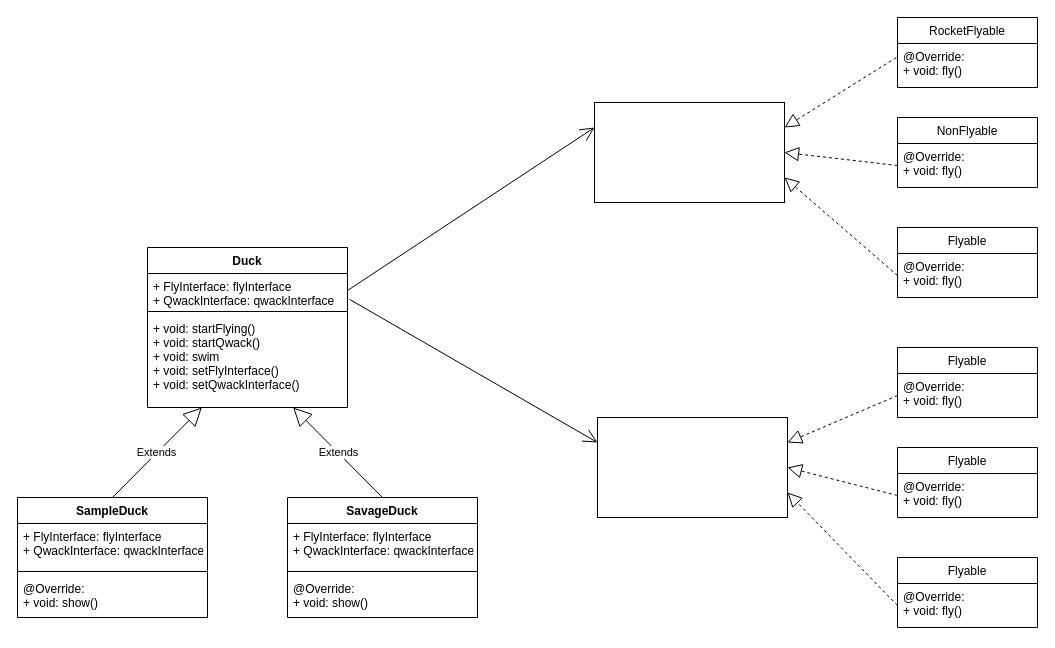
Image size: 1055x648. Some labels were removed from this diagram. The shapes that lost their labels are listed below. From the top down, each one's centre as x and y in pixels, then its label:
At point (689, 152): "<<Interface>> FlyInterface + void: fly()".
At point (692, 467): "<<Interface>> QwackInterface + void: qwack()".
